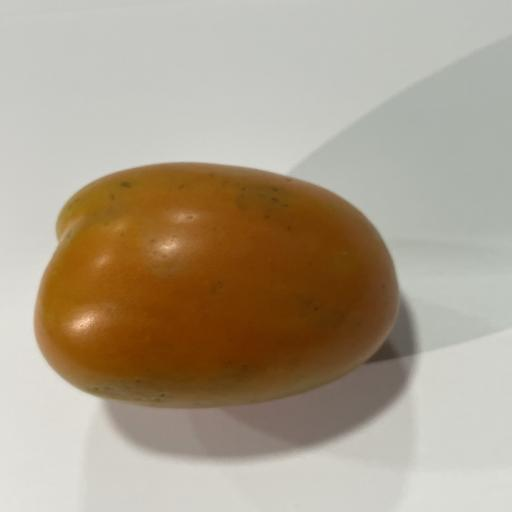unripe: (35, 163, 398, 407)
